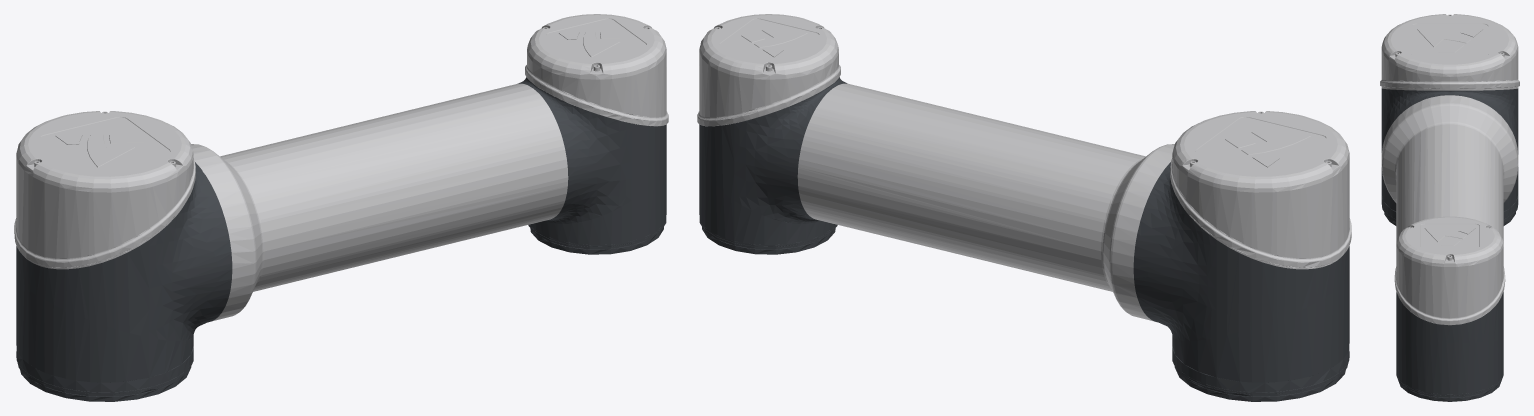
The picture shows the model from 3 angles, left to right: view 1: azimuth 30°, elevation 25°; view 2: azimuth 150°, elevation 25°; view 3: azimuth 270°, elevation 25°; orthographic projection. The views are drawn at different scales.
Parts seen in each view (by area): view 1: GBT-C16A-300; view 2: GBT-C16A-300; view 3: GBT-C16A-300.
Boxes of the visible parts, box(x1,y1,x2,y2) form: GBT-C16A-300: box(14, 14, 668, 401); GBT-C16A-300: box(697, 14, 1351, 401); GBT-C16A-300: box(1380, 14, 1519, 401).
Size of the model in its own units: 0.6175 by 0.1535 by 0.2063.
1 material, 1 textured.
